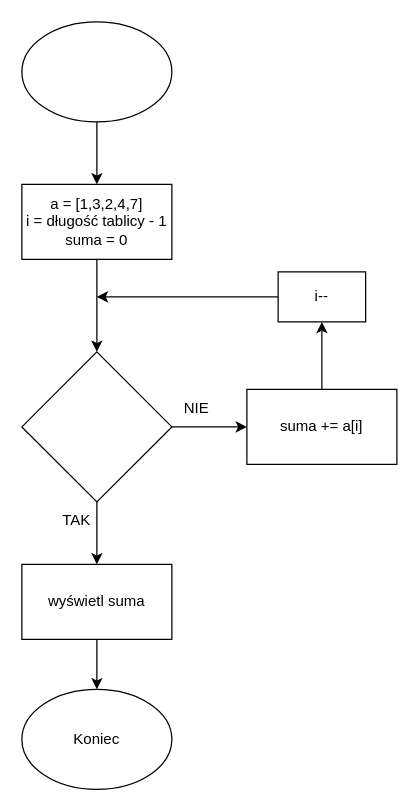
This 419x811 diagram has some shape labels left out. The centre of each missing label's shape, as x and y in pixels:
"i < 0" belongs at [96,426].
"Start" belongs at [96,71].
